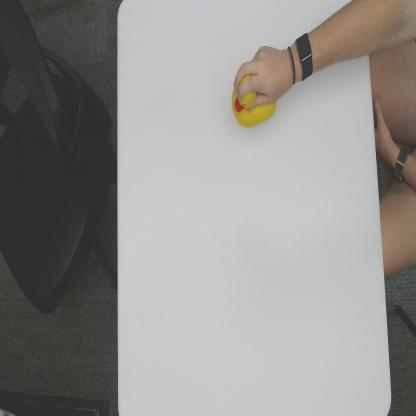Arm: (314, 0, 370, 70)
Duck: (231, 72, 278, 128)
Hand: (233, 43, 296, 112)
